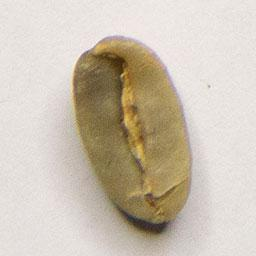longberry: (70, 32, 197, 228)
